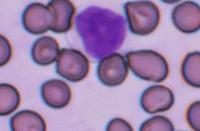L: (73, 1, 127, 62)
